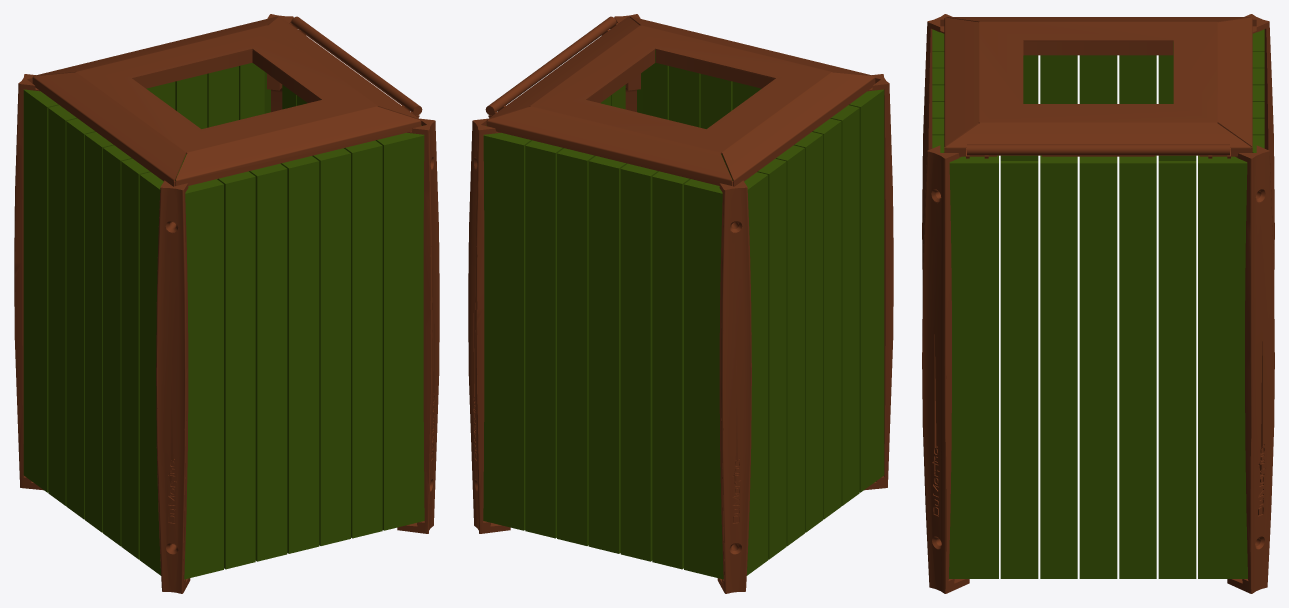
3 views of the same model, side by side, from view 1: azimuth 30°, elevation 25°; view 2: azimuth 150°, elevation 25°; view 3: azimuth 270°, elevation 25° (orthographic). The views are drawn at different scales.
Visible parts, largest first — view 1: mesh13_mesh13-geometry, mesh11_mesh11-geometry, mesh1_mesh1-geometry, mesh17_mesh17-geometry, mesh2_mesh2-geometry, mesh8_mesh8-geometry; view 2: mesh13_mesh13-geometry, mesh11_mesh11-geometry, mesh1_mesh1-geometry, mesh17_mesh17-geometry, mesh8_mesh8-geometry, mesh3_mesh3-geometry, mesh2_mesh2-geometry; view 3: mesh13_mesh13-geometry, mesh11_mesh11-geometry, mesh15_mesh15-geometry, mesh1_mesh1-geometry, mesh17_mesh17-geometry, mesh8_mesh8-geometry, mesh3_mesh3-geometry.
Part boxes in pixels (<box>): mesh13_mesh13-geometry: <box>48,66,382,569</box>; mesh11_mesh11-geometry: <box>23,63,424,579</box>; mesh1_mesh1-geometry: <box>32,16,421,186</box>; mesh17_mesh17-geometry: <box>14,14,439,593</box>; mesh2_mesh2-geometry: <box>133,50,320,102</box>; mesh8_mesh8-geometry: <box>291,16,422,115</box>; mesh13_mesh13-geometry: <box>525,66,859,569</box>; mesh11_mesh11-geometry: <box>483,50,884,579</box>; mesh1_mesh1-geometry: <box>486,16,875,186</box>; mesh17_mesh17-geometry: <box>468,14,893,593</box>; mesh8_mesh8-geometry: <box>485,16,616,115</box>; mesh3_mesh3-geometry: <box>656,50,774,88</box>; mesh2_mesh2-geometry: <box>587,50,655,102</box>; mesh13_mesh13-geometry: <box>932,42,1264,578</box>; mesh11_mesh11-geometry: <box>932,29,1264,578</box>; mesh15_mesh15-geometry: <box>1000,161,1196,578</box>; mesh1_mesh1-geometry: <box>944,17,1252,158</box>; mesh17_mesh17-geometry: <box>922,14,1274,593</box>; mesh8_mesh8-geometry: <box>967,144,1229,155</box>; mesh3_mesh3-geometry: <box>1023,41,1173,55</box>.
Size of the model in its own units: 0.501 by 0.7056 by 0.501.
